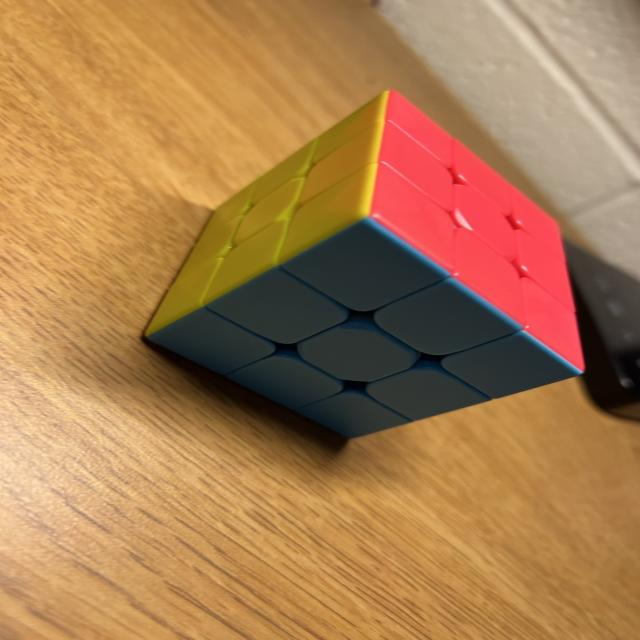Rubiks Cube: (143, 86, 586, 440)
